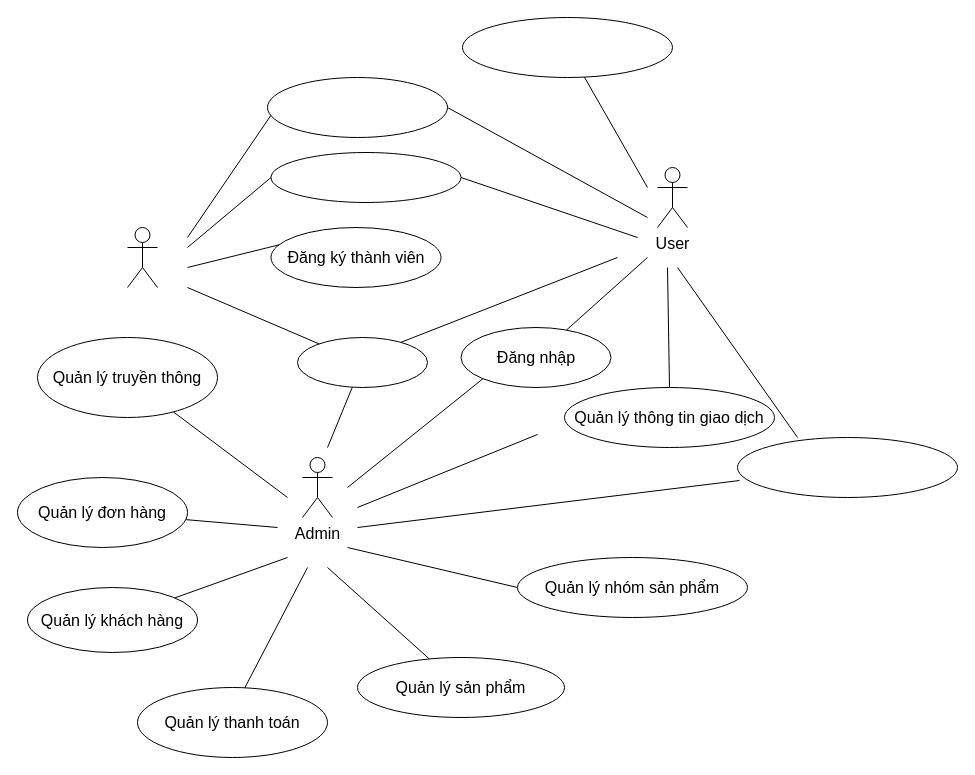
Image size: 975x775. Some labels were removed from this diagram. The shapes that lost their labels are listed below. From the top down, each one's centre as x and y in pixels, then its label:
At pixel 567 47: "Mua sản phẩm".
At pixel 357 107: "Xem sản phẩm".
At pixel 365 177: "Tìm kiếm sản phẩm".
At pixel 142 257: "Guest".
At pixel 362 362: "Chat".
At pixel 847 467: "Quản lý thông tin cá nhân".
